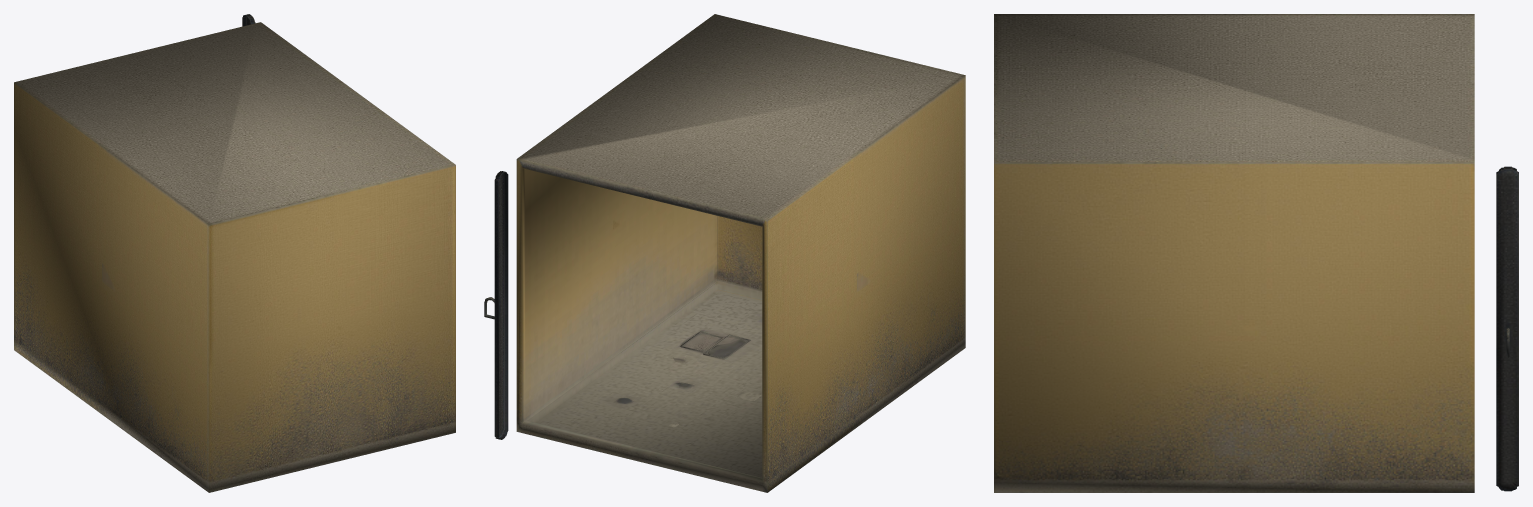
Rendered from yellow_corridor_segment.glb.
The picture shows the model from 3 angles, left to right: view 1: azimuth 30°, elevation 25°; view 2: azimuth 150°, elevation 25°; view 3: azimuth 270°, elevation 25°; orthographic projection. The views are drawn at different scales.
Bounding box in the file's own units: 2.07 × 2 × 2.88.
1 material, 1 textured.
